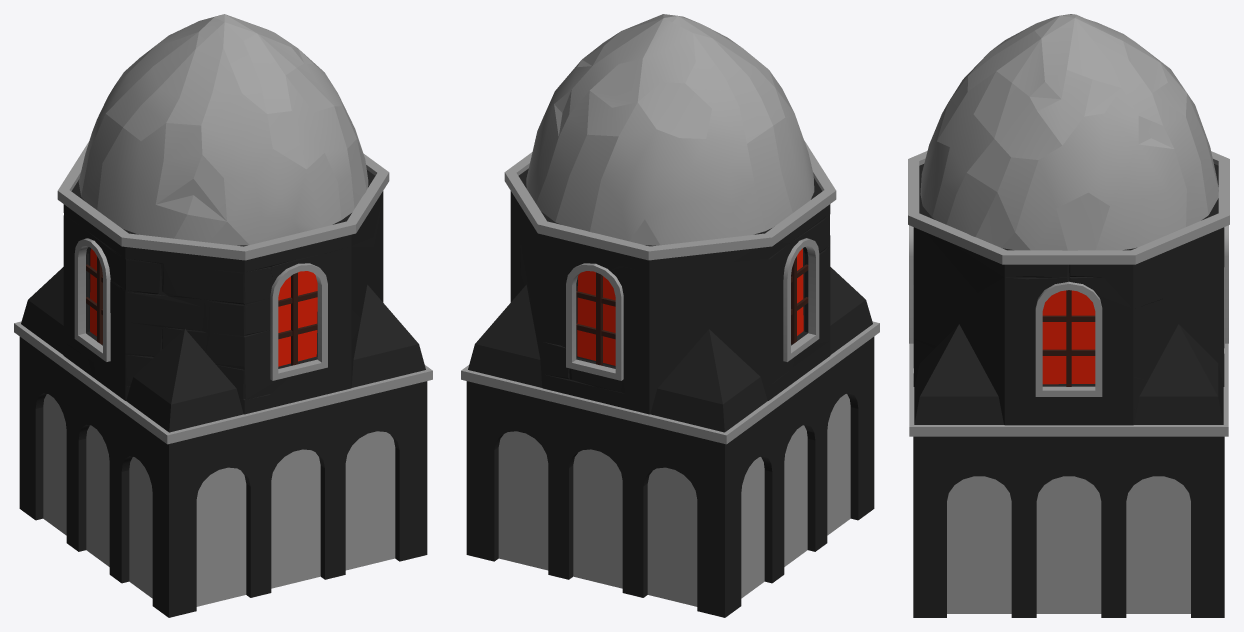
Rendered from roof_building_6_a.FBX.
The picture shows the model from 3 angles, left to right: view 1: azimuth 30°, elevation 25°; view 2: azimuth 150°, elevation 25°; view 3: azimuth 270°, elevation 25°; orthographic projection. The views are drawn at different scales.
Visible parts, largest first — view 1: roof_building_6_a; view 2: roof_building_6_a; view 3: roof_building_6_a.
Part boxes in pixels (bbox=[...]): roof_building_6_a: bbox=[14, 14, 432, 617]; roof_building_6_a: bbox=[461, 14, 879, 617]; roof_building_6_a: bbox=[908, 14, 1229, 617].
Size of the model in its own units: 466 by 856 by 466.
